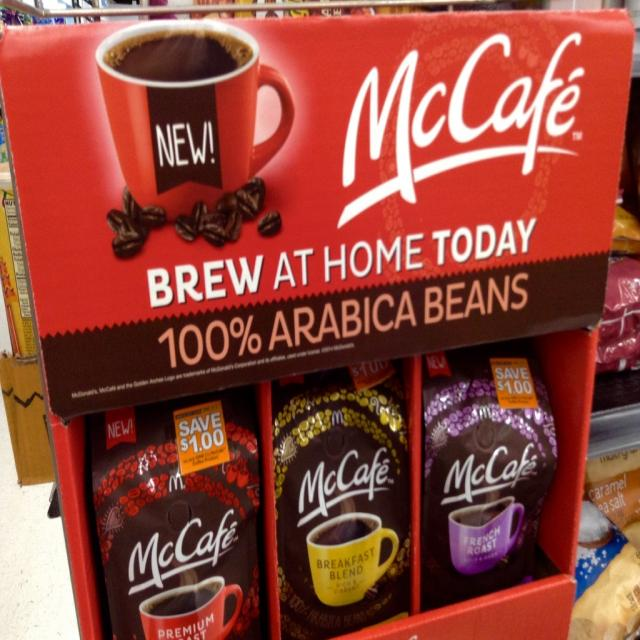Coffee: (104, 31, 254, 83), (309, 516, 379, 552), (142, 586, 222, 609), (453, 500, 509, 525)
